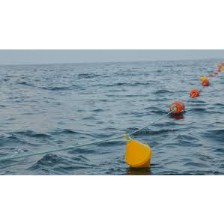buoy: (125, 139, 152, 169), (169, 101, 184, 114), (189, 88, 198, 98), (201, 77, 209, 85)
